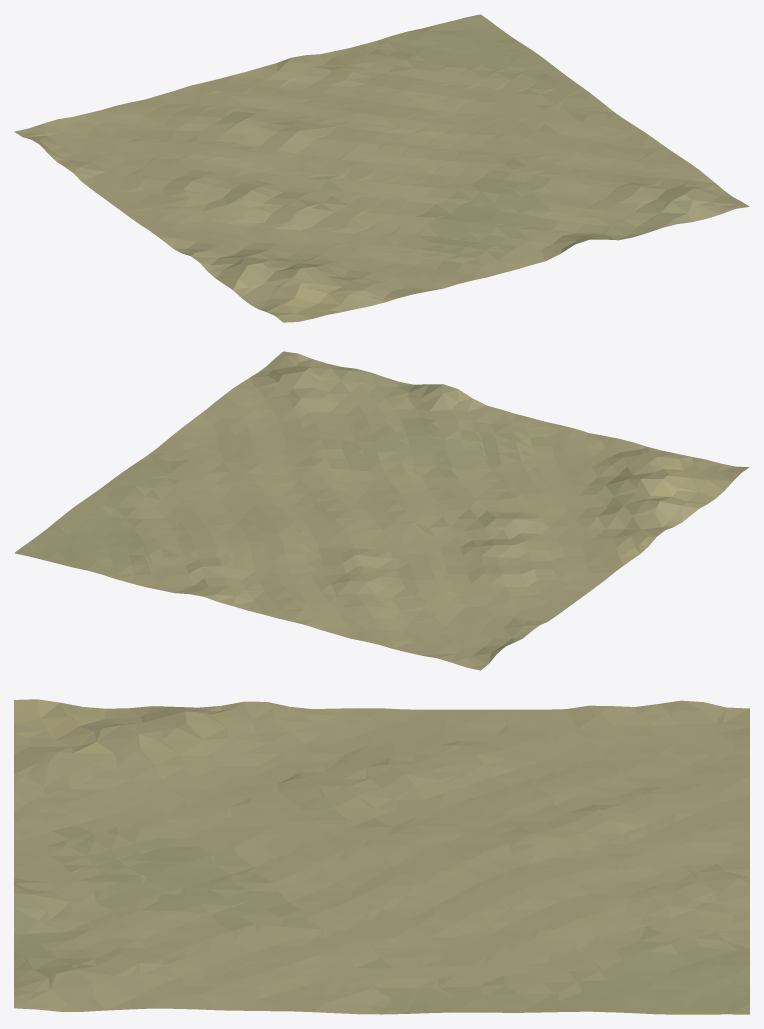
Rendered from Ground_-1_-5.glb.
3 views of the same model, one above another, from view 1: azimuth 30°, elevation 25°; view 2: azimuth 150°, elevation 25°; view 3: azimuth 270°, elevation 25° (orthographic). The views are drawn at different scales.
Visible parts, largest first — view 1: Ground_-1_-5; view 2: Ground_-1_-5; view 3: Ground_-1_-5.
Part boxes in pixels (x1=…): Ground_-1_-5: x1=14, y1=14, x2=749, y2=322; Ground_-1_-5: x1=14, y1=351, x2=749, y2=670; Ground_-1_-5: x1=14, y1=699, x2=749, y2=1014.
Size of the model in its own units: 768 by 25.23 by 768.
